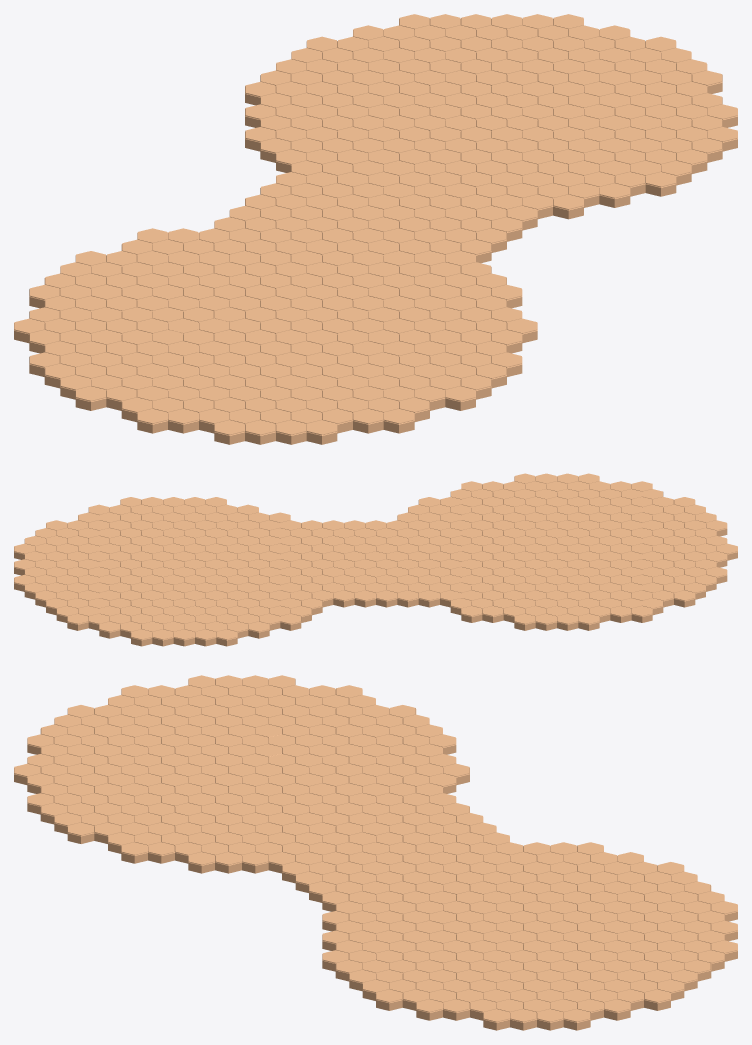
Rendered from Location_block.fbx.
The picture shows the model from 3 angles, top to bottom: view 1: azimuth 30°, elevation 25°; view 2: azimuth 150°, elevation 25°; view 3: azimuth 270°, elevation 25°; orthographic projection. The views are drawn at different scales.
Parts seen in each view (by area): view 1: block.1932, block.019, block.1980; view 2: block.1323, block.1326, block.1322, block.022, block.037, block.040, block.042, block.024, block.027, block.028, block.030, block.036 (+11 smaller); view 3: no part large enough to name.
Part boxes in pixels (x1=…): block.1932: x1=645, y1=172, x2=676, y2=196; block.019: x1=75, y1=386, x2=106, y2=410; block.1980: x1=599, y1=183, x2=630, y2=207; block.1323: x1=397, y1=590, x2=418, y2=607; block.1326: x1=333, y1=590, x2=354, y2=607; block.1322: x1=418, y1=590, x2=439, y2=607; block.022: x1=674, y1=590, x2=695, y2=607; block.037: x1=216, y1=629, x2=237, y2=646; block.040: x1=152, y1=629, x2=173, y2=646; block.042: x1=99, y1=621, x2=120, y2=638; block.024: x1=610, y1=606, x2=631, y2=622; block.027: x1=557, y1=613, x2=578, y2=630; block.028: x1=535, y1=613, x2=556, y2=630; block.030: x1=482, y1=606, x2=503, y2=622; block.036: x1=248, y1=621, x2=269, y2=638.
Bounding box in the file's own units: 3710 × 43.73 × 3274.
